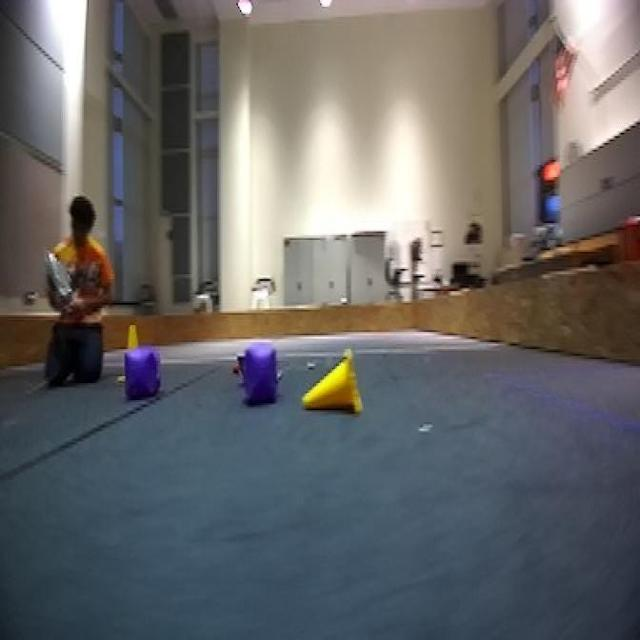frc_cone: (300, 342, 367, 424), (122, 325, 145, 351)
frc_cube: (246, 342, 281, 414), (126, 348, 164, 403)
